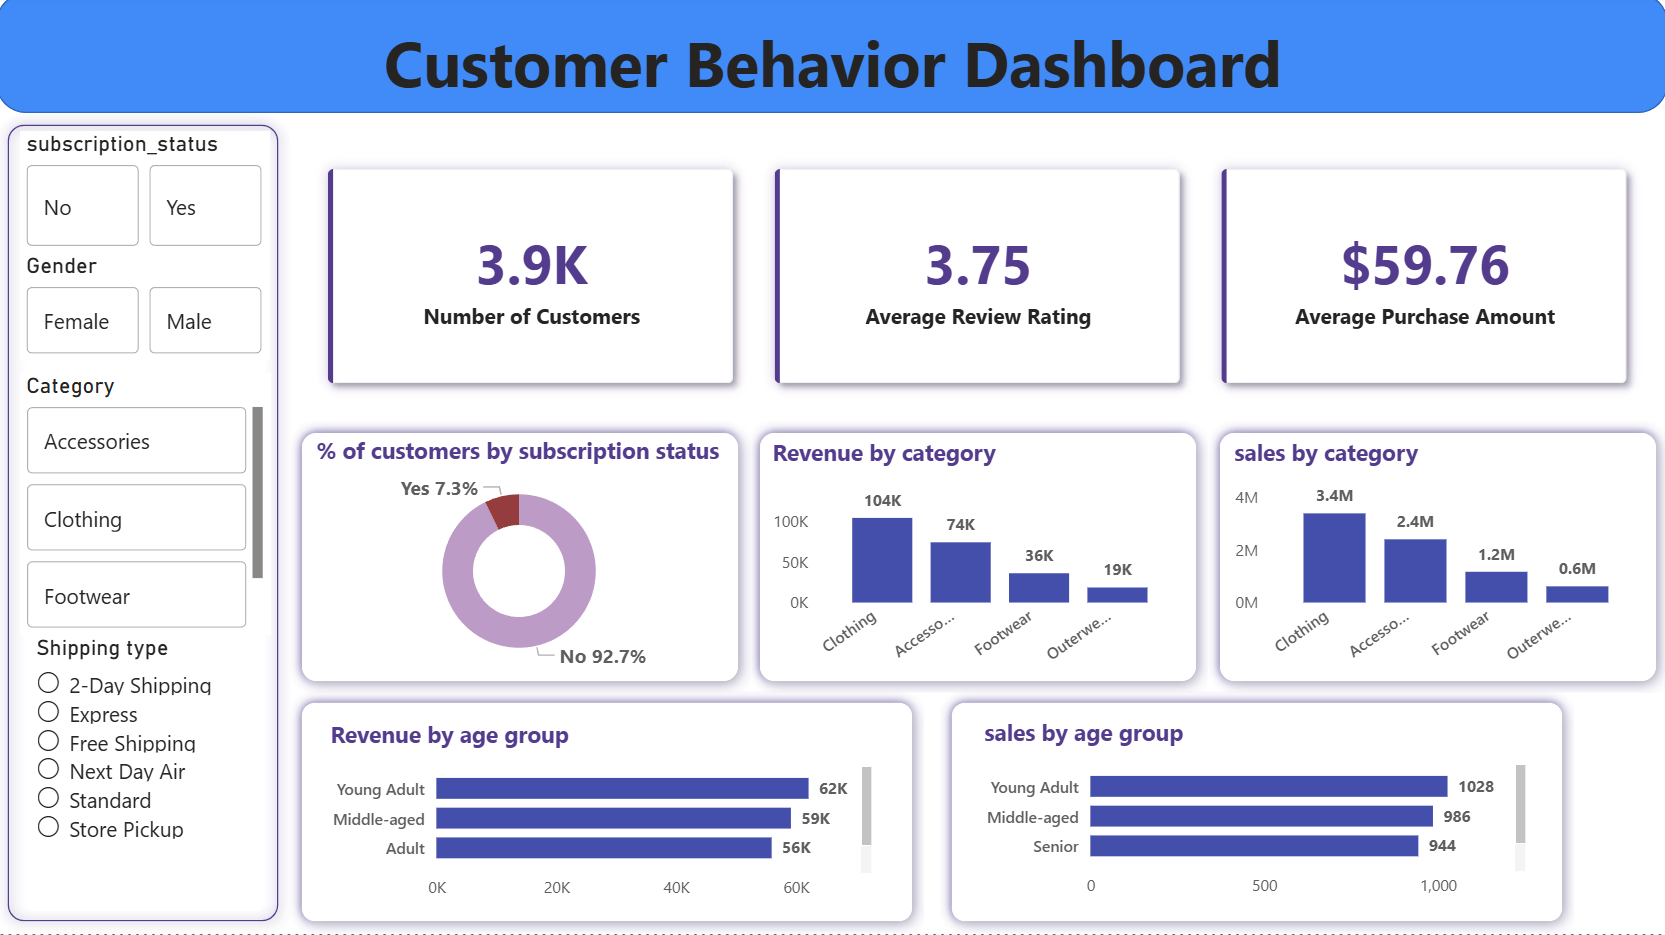

What the dashboard file says about the page in this screenshot:
{"tool":"powerbi","page":{"name":"Page 1","canvas":[1280,720],"ordinal":0},"visuals":[{"type":"cardVisual","fields":{"Data":["public customer.Number of Customers","public customer.Average Review Rating","public customer.Average Purchase Amount"]},"box":[225.1,105.6,1054.9,222],"z":0},{"type":"shape","box":[0,0,1280,91.9],"z":1000},{"type":"textbox","box":[0,15.3,1281.5,76.6],"z":2000},{"type":"shape","box":[225.1,327.7,352.2,208.2],"z":3000},{"type":"donutChart","title":"% of customers by  subscription status","fields":{"Category":["public customer.subscription_status"],"Y":["Sum(public customer.customer_id)"]},"box":[240.4,338.4,320,185.3],"z":4000},{"type":"shape","box":[927.4,327.7,352.2,208.2],"z":5000},{"type":"shape","box":[575.7,327.7,352.2,208.2],"z":6000},{"type":"clusteredColumnChart","title":"Revenue by category","fields":{"Y":["Sum(public customer.purchase_amount)"],"Category":["public customer.category"]},"box":[589.5,339.9,323.1,183.7],"z":7000},{"type":"clusteredColumnChart","title":"sales by category","fields":{"Category":["public customer.category"],"Y":["Sum(public customer.customer_id)"]},"box":[943.2,339.9,323.1,183.7],"z":8000},{"type":"shape","box":[0,91.9,225.1,627.8],"z":9000},{"type":"advancedSlicerVisual","fields":{"Values":["public customer.subscription_status"]},"box":[18.4,105.6,191.4,93.4],"z":10000},{"type":"advancedSlicerVisual","fields":{"Values":["public customer.gender"]},"box":[18.4,199,191.4,82.7],"z":11000},{"type":"advancedSlicerVisual","fields":{"Values":["public customer.category"]},"box":[18.4,290.9,191.4,200.6],"z":12000},{"type":"listSlicer","fields":{"Values":["public customer.shipping_type"]},"box":[26,491.5,176.1,211.3],"z":13000},{"type":"shape","box":[225.1,534.4,485.4,185.3],"z":14000},{"type":"clusteredBarChart","title":"Revenue by age group","fields":{"Y":["Sum(public customer.purchase_amount)"],"Category":["public customer.age_group"]},"box":[251.1,555.8,424.1,147],"z":15000},{"type":"shape","box":[722.7,534.4,485.4,185.3],"z":16000},{"type":"clusteredBarChart","title":"sales by age group","fields":{"Category":["public customer.age_group"],"Y":["CountNonNull(public customer.customer_id)"]},"box":[751.8,554.3,424.1,147],"z":17000}]}

Visuals, with their boxes in screenshot pixels (x1, y1, x2, y2), scaled from the page's 1280x720 canvas onto the 1665x935 screenshot:
cardVisual - public customer.Number of Customers x public customer.Average Review Rating: region(293, 137, 1664, 425)
shape: region(0, 0, 1664, 119)
textbox: region(0, 20, 1664, 119)
shape: region(293, 426, 751, 696)
"% of customers by  subscription status" donutChart: region(313, 439, 729, 680)
shape: region(1206, 426, 1664, 696)
shape: region(749, 426, 1207, 696)
"Revenue by category" clusteredColumnChart: region(767, 441, 1187, 680)
"sales by category" clusteredColumnChart: region(1227, 441, 1647, 680)
shape: region(0, 119, 293, 934)
advancedSlicerVisual - public customer.subscription_status: region(24, 137, 273, 258)
advancedSlicerVisual - public customer.gender: region(24, 258, 273, 366)
advancedSlicerVisual - public customer.category: region(24, 378, 273, 638)
listSlicer - public customer.shipping_type: region(34, 638, 263, 913)
shape: region(293, 694, 924, 934)
"Revenue by age group" clusteredBarChart: region(327, 722, 878, 913)
shape: region(940, 694, 1571, 934)
"sales by age group" clusteredBarChart: region(978, 720, 1530, 911)
